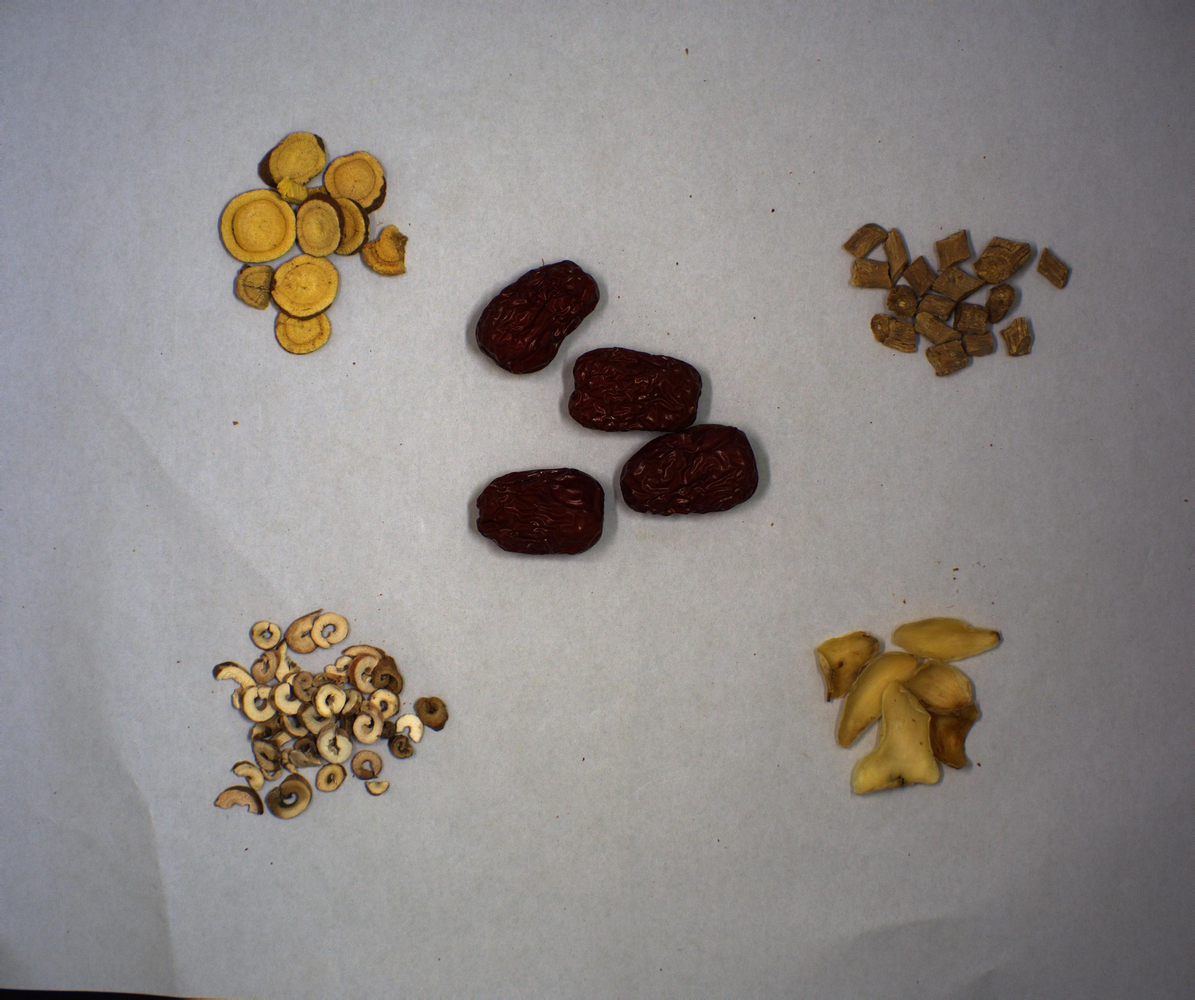baihe: (817, 618, 1001, 796)
dazao: (475, 260, 759, 556)
gancao: (219, 131, 403, 354)
mudanpi: (215, 610, 448, 817)
niuxi: (844, 224, 1071, 377)
